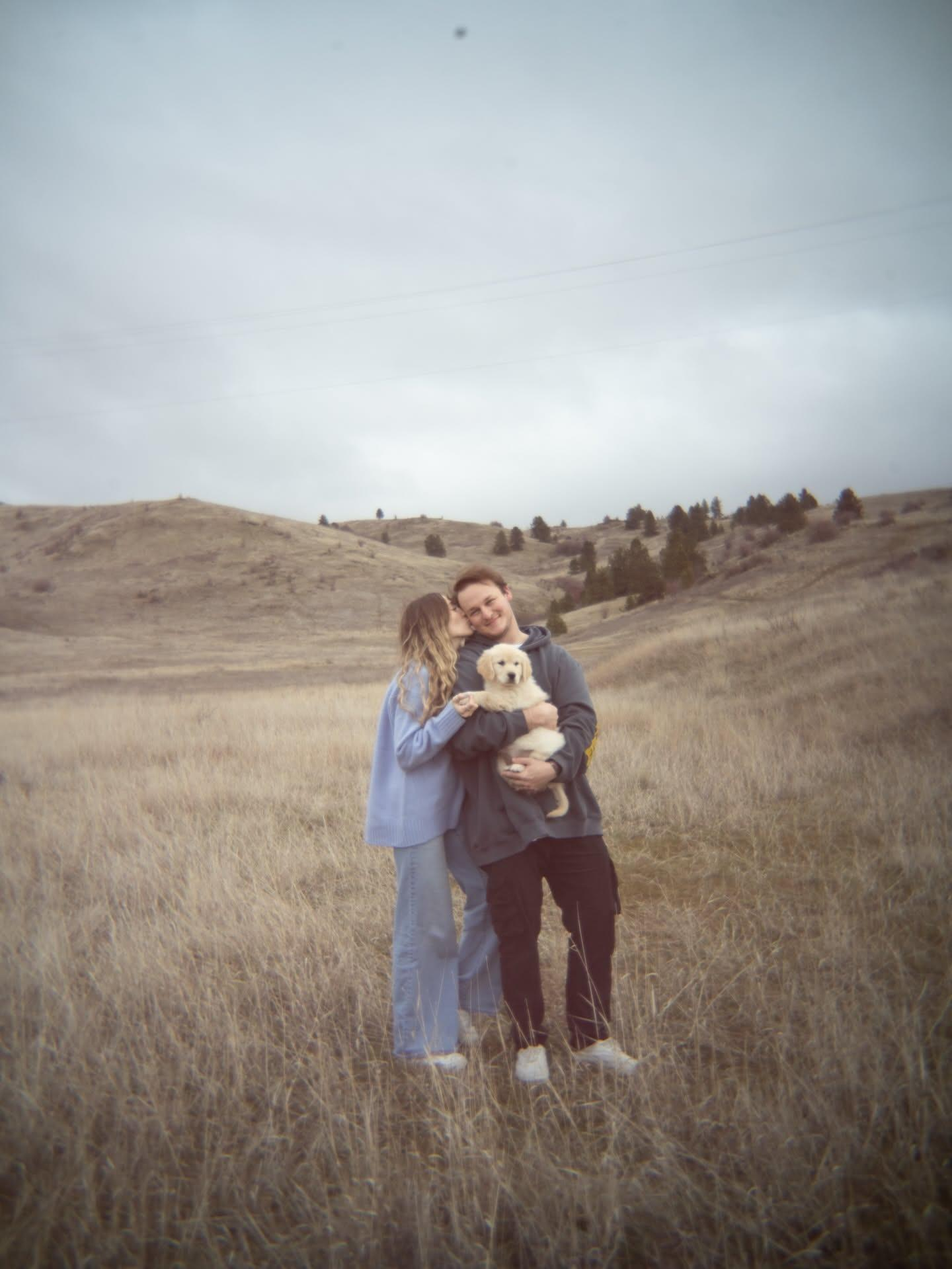non-dog: (444, 565, 641, 1086), (362, 593, 505, 1075)
puppy-dog: (463, 644, 571, 818)
